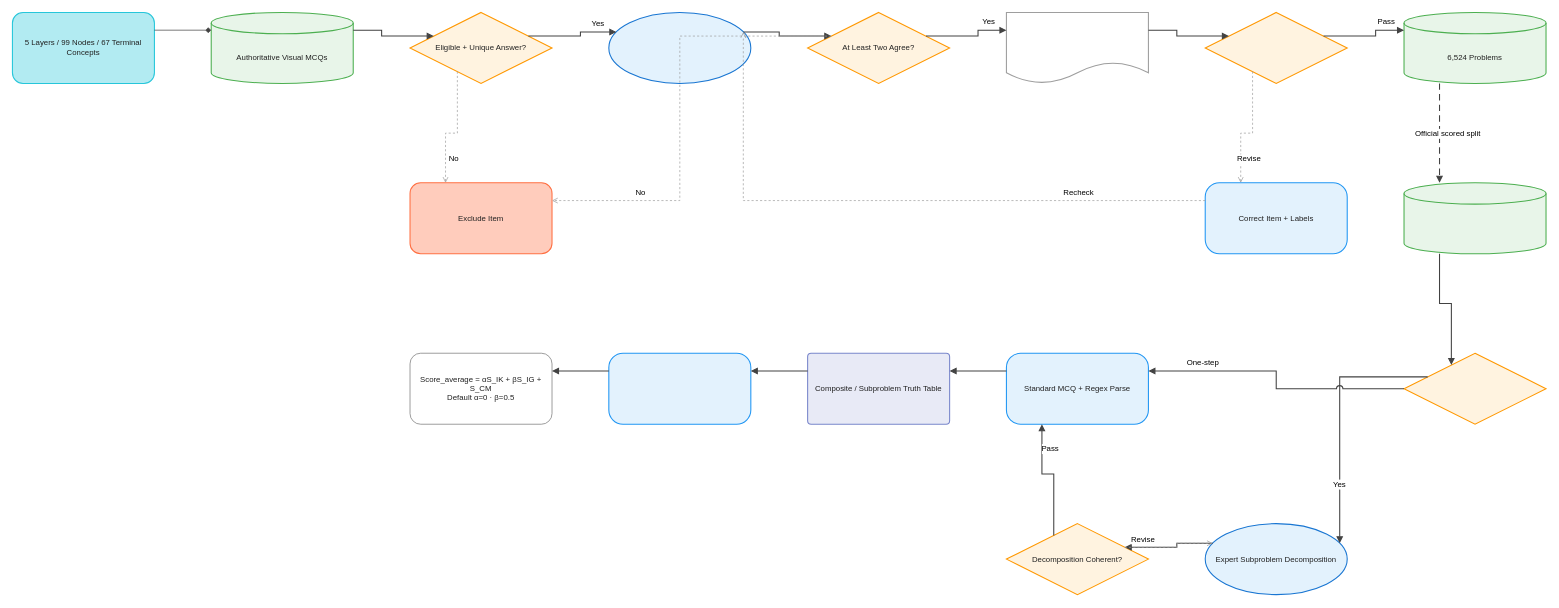
The diagram is 1559 pixels wide and 608 high, and some of its shapes have lost their labels. The shapes that lost their labels are listed below. From the top down, each one's box as (x1, y1, x2, y2) in pixels, then its label:
(608, 12, 751, 84): Three Expert Concept Labels
(1006, 12, 1149, 84): Solution Steps + Step Count
(1204, 12, 1347, 84): Double Review Pass?
(1403, 182, 1546, 254): Official Testmini: 1,740 1-step 1,215 · 2-step 360 · 3-step 165
(608, 352, 751, 424): IK / IG / CM / RM
(1403, 352, 1546, 424): Composite Problem?
